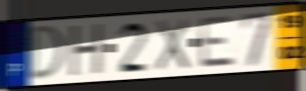2: (116, 20, 151, 73)
7: (239, 9, 273, 68)
D: (28, 23, 68, 83)
E: (198, 13, 237, 70)
H: (68, 21, 105, 79)
X: (153, 16, 191, 73)
